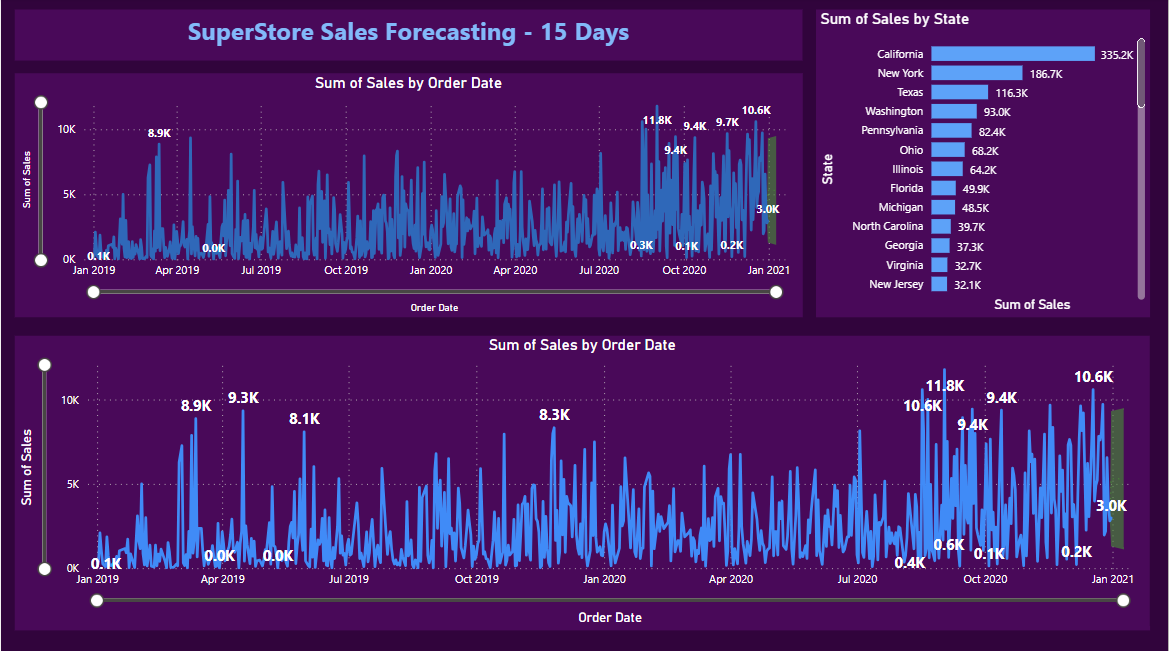

Layout of this report page (visuals, bound fields, positions):
{"tool":"powerbi","page":{"name":"Page 2","canvas":[1280,720],"ordinal":1},"visuals":[{"type":"lineChart","fields":{"Y":["Sum(SuperStore_Sales_Dataset.Sales)"],"Category":["SuperStore_Sales_Dataset.Order Date"]},"box":[15.1,83.6,863.8,267.4],"z":0},{"type":"lineChart","fields":{"Y":["Sum(SuperStore_Sales_Dataset.Sales)"],"Category":["SuperStore_Sales_Dataset.Order Date"]},"box":[15.1,371.6,1244.9,322.2],"z":1},{"type":"clusteredBarChart","fields":{"Category":["SuperStore_Sales_Dataset.State"],"Y":["Sum(SuperStore_Sales_Dataset.Sales)"]},"box":[893.9,13.7,366.1,337.3],"z":3},{"type":"textbox","box":[15.1,13.7,863.8,56.2],"z":4}]}

Visuals, with their boxes in screenshot pixels (x1, y1, x2, y2), scaled from the page's 1280x720 canvas onto the 1169x651 screenshot:
lineChart - Sum(SuperStore_Sales_Dataset.Sales) x SuperStore_Sales_Dataset.Order Date: (x1=14, y1=76, x2=803, y2=317)
lineChart - Sum(SuperStore_Sales_Dataset.Sales) x SuperStore_Sales_Dataset.Order Date: (x1=14, y1=336, x2=1151, y2=627)
clusteredBarChart - SuperStore_Sales_Dataset.State x Sum(SuperStore_Sales_Dataset.Sales): (x1=816, y1=12, x2=1151, y2=317)
textbox: (x1=14, y1=12, x2=803, y2=63)
